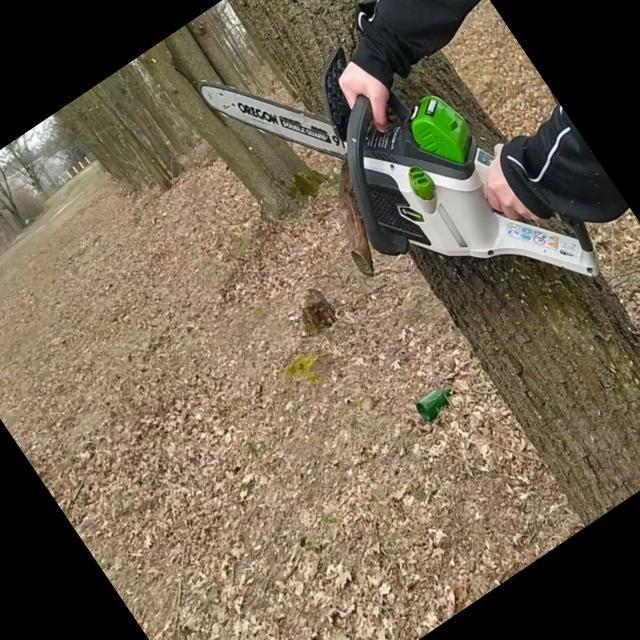Chainsaw: (187, 0, 618, 412)
